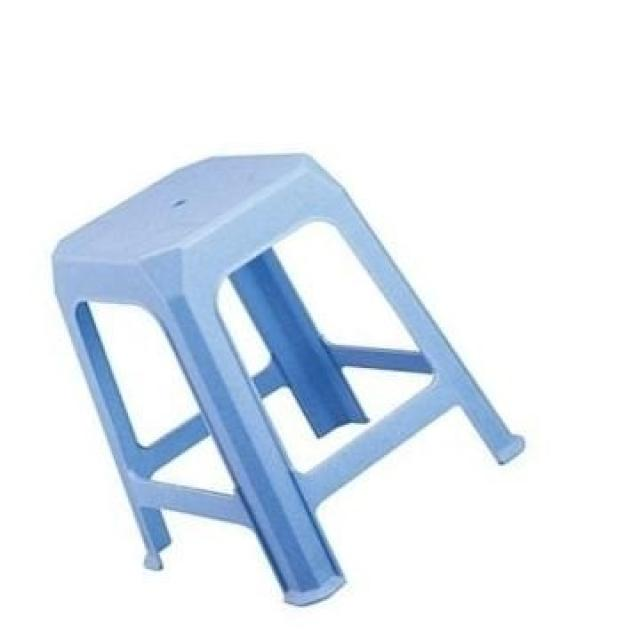Chair: (51, 154, 531, 607)
